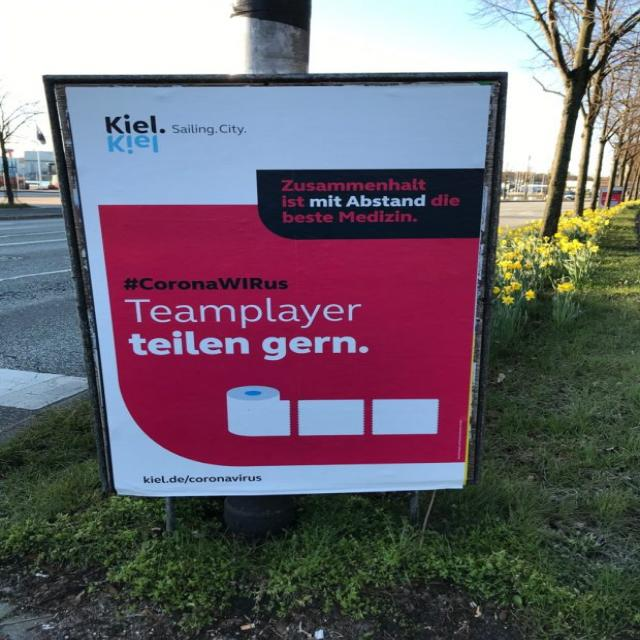Werbetafel frei: (38, 69, 514, 500)
